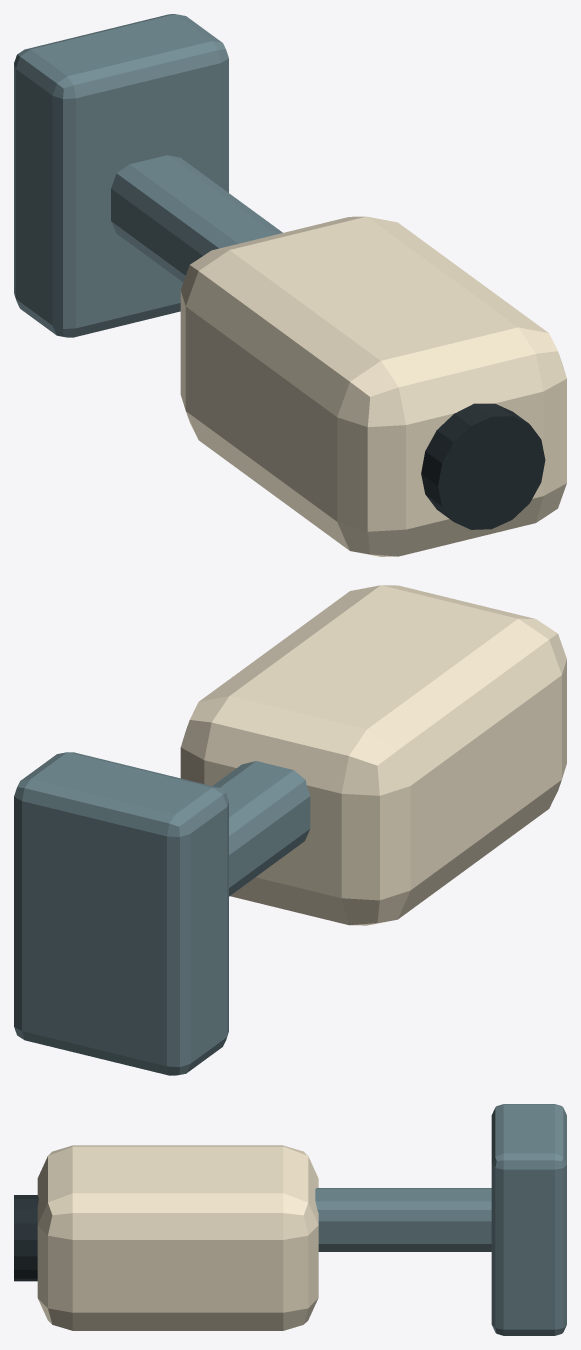
The model's file is Security_Camera.fbx.
3 renders of one model, top to bottom at view 1: azimuth 30°, elevation 25°; view 2: azimuth 150°, elevation 25°; view 3: azimuth 270°, elevation 25°, orthographic. The views are drawn at different scales.
Visible parts, largest first — view 1: Security_Camera_Mesh; view 2: Security_Camera_Mesh; view 3: Security_Camera_Mesh.
Boxes of the visible parts, x1,y1,x2,y2 form: Security_Camera_Mesh: (14, 14, 566, 556); Security_Camera_Mesh: (14, 585, 566, 1075); Security_Camera_Mesh: (14, 1104, 566, 1335).
Bounding box in the file's own units: 0.18 × 0.2 × 0.551.
1 material, 1 textured.
